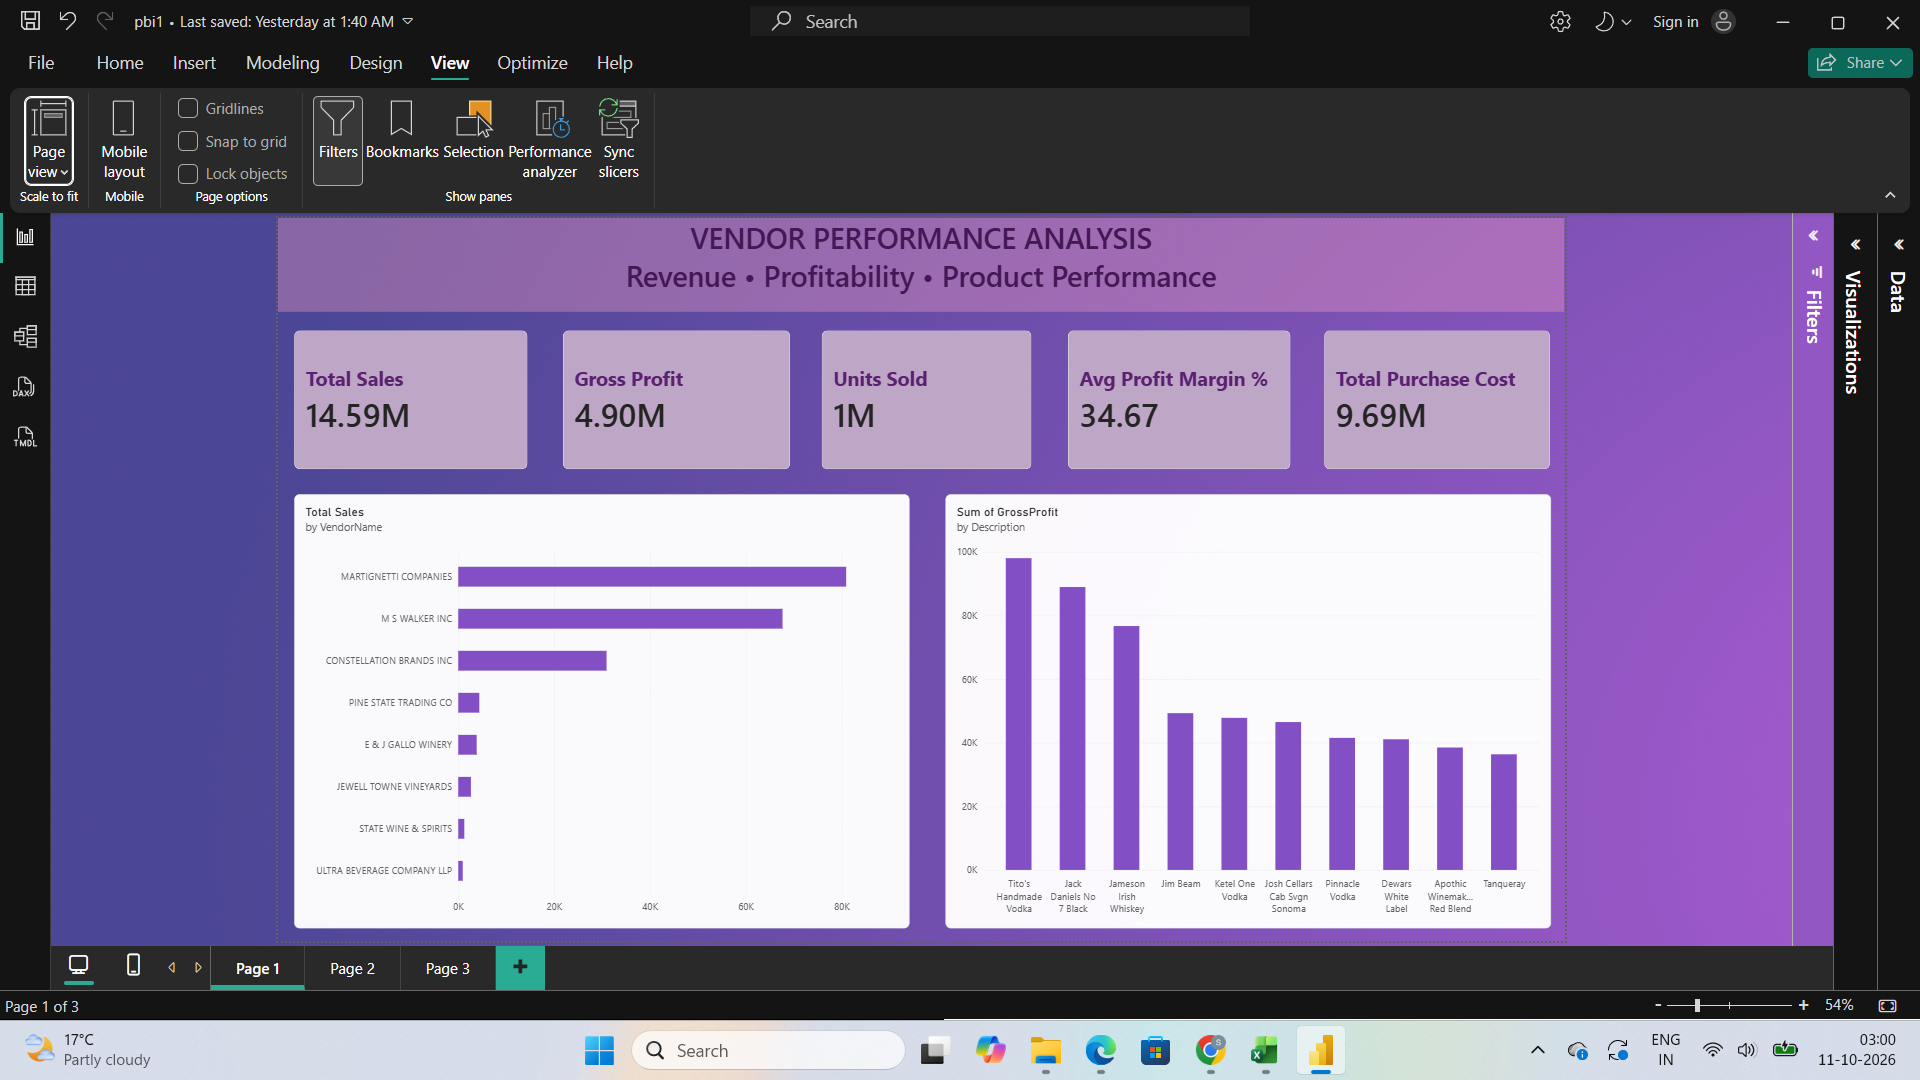

What the dashboard file says about the page in this screenshot:
{"tool":"powerbi","page":{"name":"Page 1","canvas":[1920,1080],"ordinal":0},"visuals":[{"type":"cardVisual","fields":{"Data":["final_table_3.Total Sales"]},"box":[24.3,167.9,348.9,207.1],"z":0},{"type":"cardVisual","fields":{"Data":["final_table_3.Gross Profit"]},"box":[425.4,167.9,339.6,207.1],"z":1000},{"type":"cardVisual","fields":{"Data":["final_table_3.Units Sold"]},"box":[811.7,167.9,313.5,207.1],"z":2000},{"type":"cardVisual","fields":{"Data":["final_table_3.Average Profit Margin"]},"box":[1179.3,167.9,332.1,207.1],"z":3000},{"type":"textbox","box":[0,0,1920.1,139.9],"z":4000},{"type":"cardVisual","fields":{"Data":["final_table_3.Total Purchase Cost"]},"box":[1561.8,167.9,337.7,207.1],"z":5000},{"type":"clusteredBarChart","fields":{"Category":["final_table_3.VendorName"],"Y":["final_table_3.Total Sales"]},"box":[24,412,918,648],"z":6000},{"type":"clusteredColumnChart","fields":{"Category":["final_table_3.Description"],"Y":["Sum(final_table_3.GrossProfit)"]},"box":[996,412,904,648],"z":7000}]}

Visuals, with their boxes on the page's 1920x1080 design canvas (x1, y1, x2, y2). These are canvas units, not pixel positions in the 1920x1080 screenshot, which may show the page scaled, cropped or inside an application window:
cardVisual - final_table_3.Total Sales: l=24, t=168, r=373, b=375
cardVisual - final_table_3.Gross Profit: l=425, t=168, r=765, b=375
cardVisual - final_table_3.Units Sold: l=812, t=168, r=1125, b=375
cardVisual - final_table_3.Average Profit Margin: l=1179, t=168, r=1511, b=375
textbox: l=0, t=0, r=1920, b=140
cardVisual - final_table_3.Total Purchase Cost: l=1562, t=168, r=1900, b=375
clusteredBarChart - final_table_3.VendorName x final_table_3.Total Sales: l=24, t=412, r=942, b=1060
clusteredColumnChart - final_table_3.Description x Sum(final_table_3.GrossProfit): l=996, t=412, r=1900, b=1060
